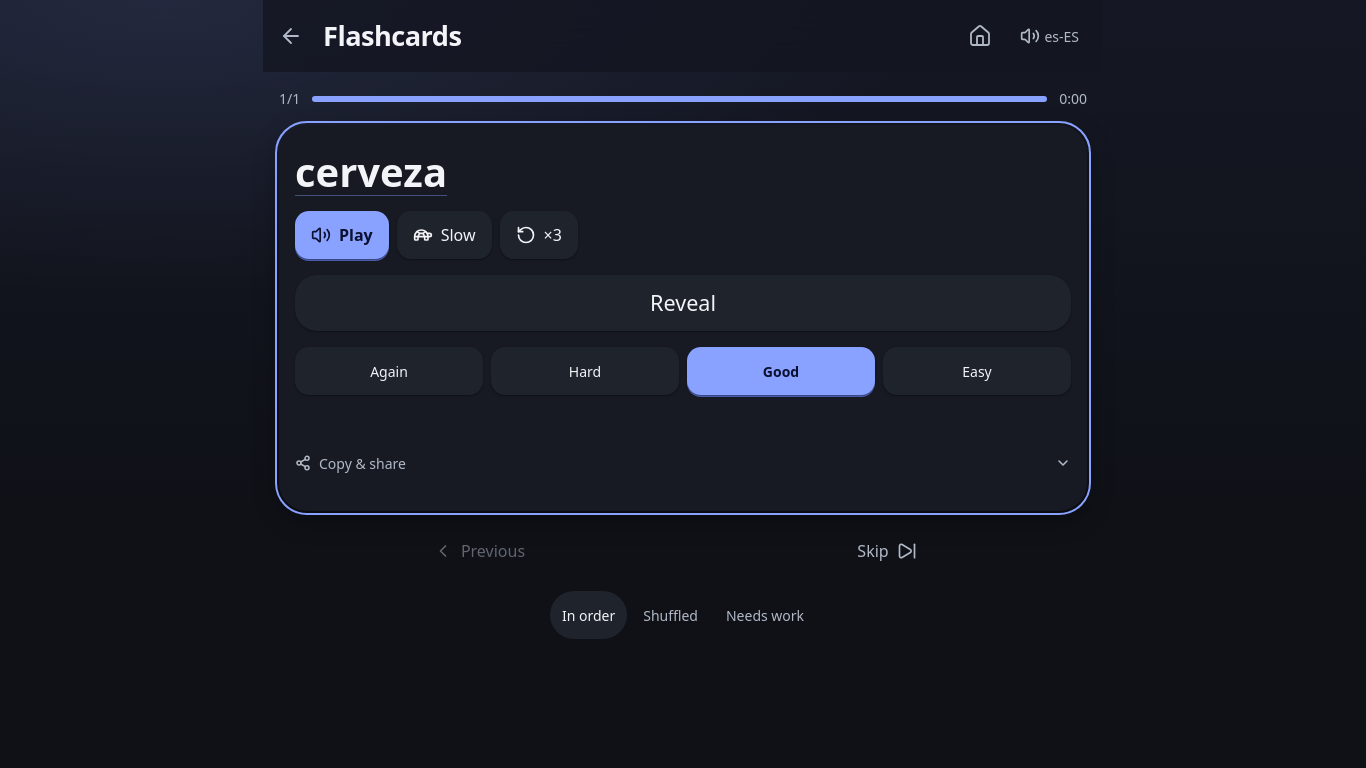
Scenario: word inspection › opens a word card itself, gender and all
The width and height of the screenshot is (1366, 768).
Click the button with aria-label "About “cerveza”". click: coordinates (371, 172)
box: [295,149,447,195]
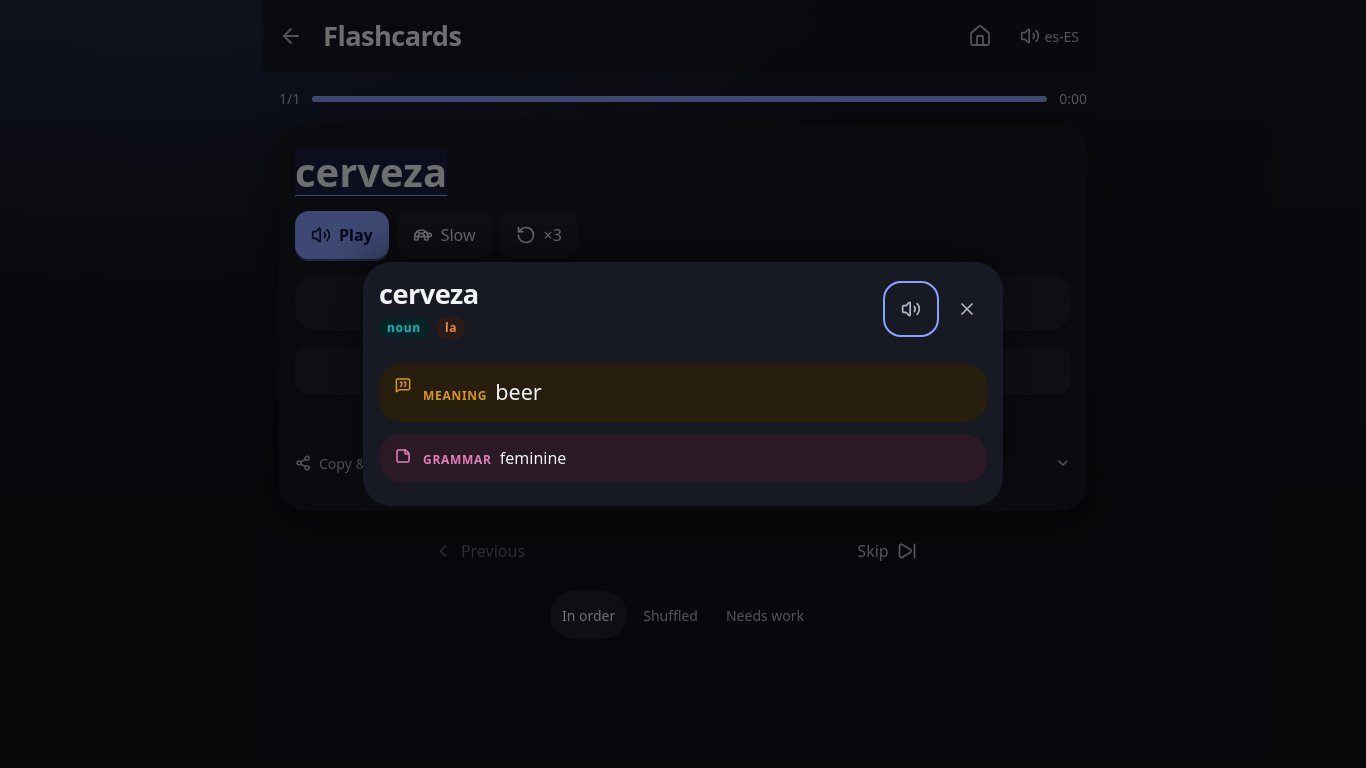
Now the dialog named "About cerveza" shows "beer", box [495,377,542,406]
Now the dialog named "About cerveza" shows "noun", box [387,319,421,336]
Now the dialog named "About cerveza" shows "feminine", box [500,447,566,469]
Click the button named "Close". click: coordinates (967, 309)
box: [943,285,991,333]
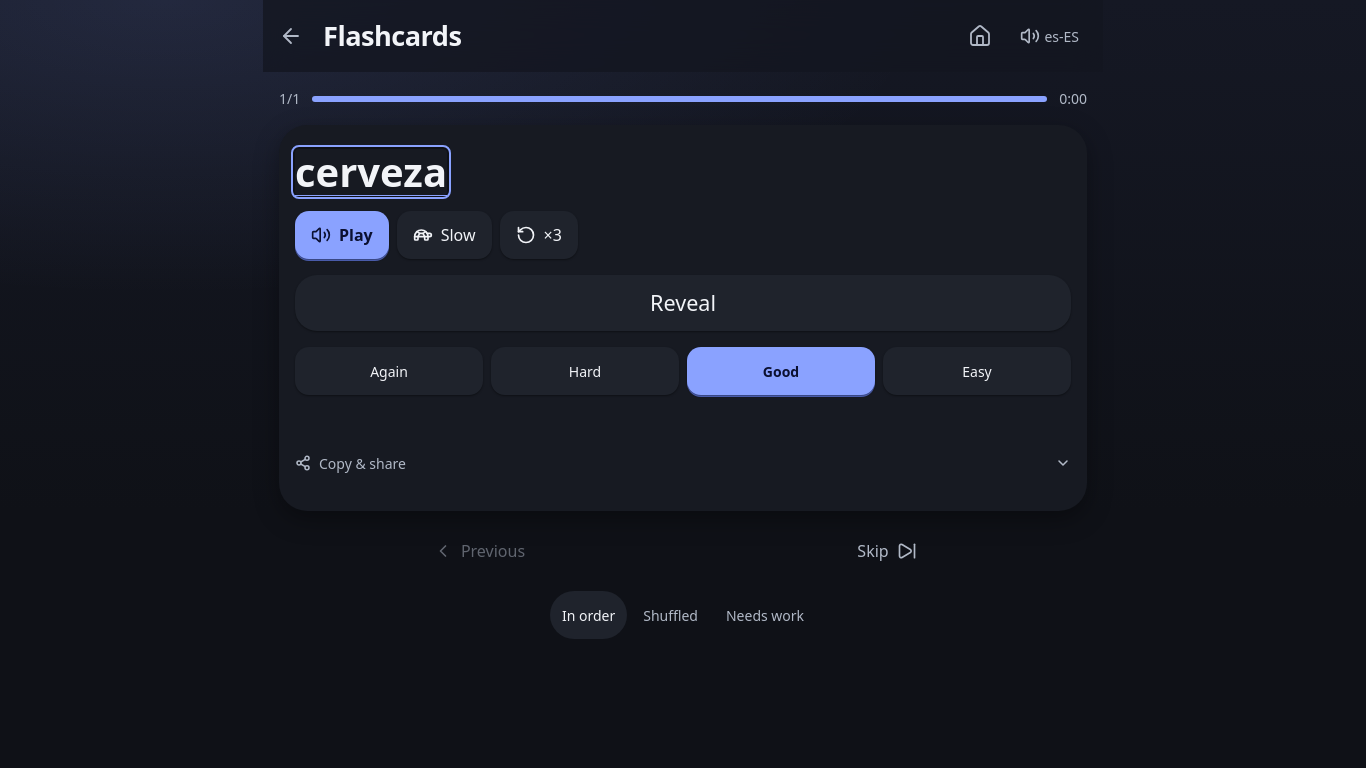
Now the dialog is gone
